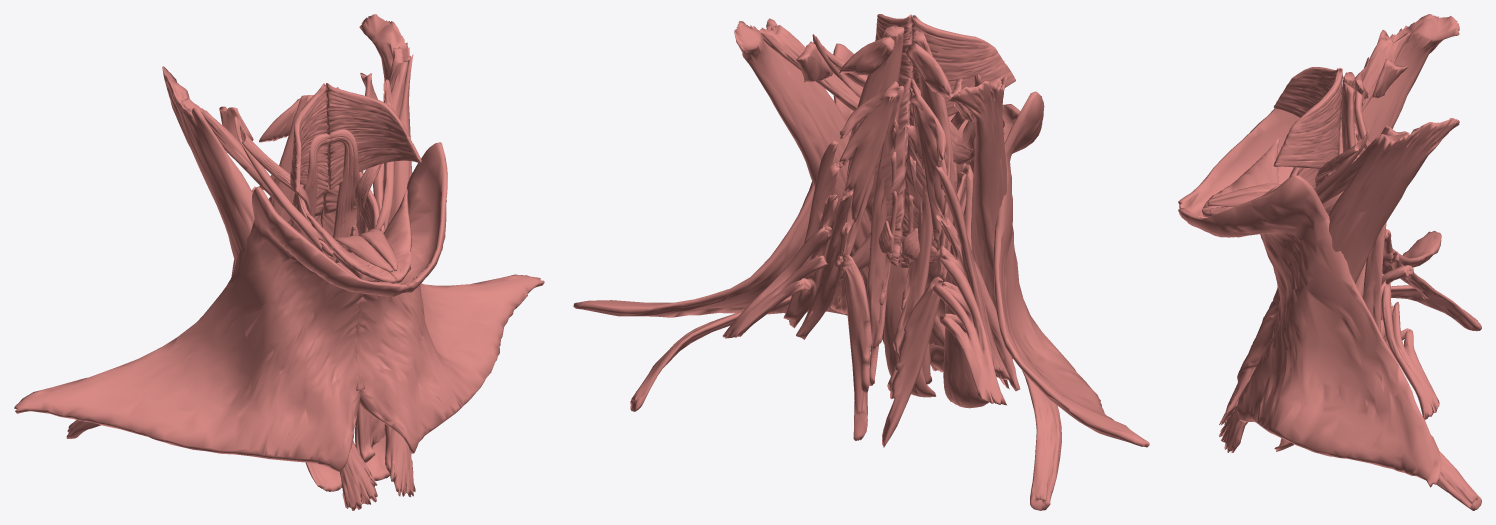
File: z-anatomy-neck-muscles.glb
3 renders of one model, left to right at view 1: azimuth 30°, elevation 25°; view 2: azimuth 150°, elevation 25°; view 3: azimuth 270°, elevation 25°, orthographic. The views are drawn at different scales.
Parts seen in each view (by area): view 1: neck-muscles-platysma-right__Platysma.r, neck-muscles-platysma-left__Platysma.l, neck-muscles-sternocleidomastoid-muscle-right__Sternocleidom, neck-muscles-superior-pharyngeal-constrictor-left__Superior , neck-muscles-sternocleidomastoid-muscle-left__Sternocleidoma, neck-muscles-superior-pharyngeal-constrictor-right__Superior, neck-muscles-palatopharyngeus-muscle-left__Palatopharyngeus , neck-muscles-mylohyoid-muscle-left__Mylohyoid muscle.l, neck-muscles-posterior-belly-of-digastric-muscle-right__Post, neck-muscles-stylohyoid-muscle-right__Stylohyoid muscle.r, neck-muscles-posterior-belly-of-digastric-muscle-left__Poste, neck-muscles-mylohyoid-muscle-right__Mylohyoid muscle.r (+12 smaller); view 2: neck-muscles-longus-colli-muscle-left__Longus colli muscle.l, neck-muscles-platysma-right__Platysma.r, neck-muscles-longus-colli-muscle-right__Longus colli muscle., neck-muscles-sternocleidomastoid-muscle-left__Sternocleidoma, neck-muscles-platysma-left__Platysma.l, neck-muscles-sternocleidomastoid-muscle-right__Sternocleidom, neck-muscles-superior-pharyngeal-constrictor-right__Superior, neck-muscles-scalenus-posterior-muscle-right__Scalenus poste, neck-muscles-omohyoid-muscle-right__Omohyoid muscle.r, neck-muscles-scalenus-medius-muscle-left__Scalenus medius mu, neck-muscles-scalenus-medius-muscle-right__Scalenus medius m, neck-muscles-scalenus-posterior-muscle-left__Scalenus poster (+15 smaller); view 3: neck-muscles-platysma-left__Platysma.l, neck-muscles-sternocleidomastoid-muscle-left__Sternocleidoma, neck-muscles-platysma-right__Platysma.r, neck-muscles-sternocleidomastoid-muscle-right__Sternocleidom, neck-muscles-superior-pharyngeal-constrictor-left__Superior , neck-muscles-scalenus-posterior-muscle-left__Scalenus poster, neck-muscles-superior-pharyngeal-constrictor-right__Superior, neck-muscles-scalenus-medius-muscle-left__Scalenus medius mu, neck-muscles-mylohyoid-muscle-right__Mylohyoid muscle.r, neck-muscles-omohyoid-muscle-right__Omohyoid muscle.r, neck-muscles-posterior-belly-of-digastric-muscle-right__Post, neck-muscles-omohyoid-muscle-left__Omohyoid muscle.l (+10 smaller).
Part boxes in pixels (x1,y1,x2,y2): neck-muscles-platysma-right__Platysma.r: [14, 186, 407, 471]; neck-muscles-platysma-left__Platysma.l: [355, 142, 544, 453]; neck-muscles-sternocleidomastoid-muscle-right__Sternocleidom: [162, 66, 377, 510]; neck-muscles-superior-pharyngeal-constrictor-left__Superior : [326, 83, 421, 189]; neck-muscles-sternocleidomastoid-muscle-left__Sternocleidoma: [359, 14, 415, 497]; neck-muscles-superior-pharyngeal-constrictor-right__Superior: [290, 83, 328, 193]; neck-muscles-palatopharyngeus-muscle-left__Palatopharyngeus : [329, 129, 359, 263]; neck-muscles-mylohyoid-muscle-left__Mylohyoid muscle.l: [373, 189, 411, 282]; neck-muscles-posterior-belly-of-digastric-muscle-right__Post: [181, 98, 326, 245]; neck-muscles-stylohyoid-muscle-right__Stylohyoid muscle.r: [234, 116, 331, 258]; neck-muscles-posterior-belly-of-digastric-muscle-left__Poste: [373, 47, 407, 231]; neck-muscles-mylohyoid-muscle-right__Mylohyoid muscle.r: [306, 213, 396, 283]; neck-muscles-longus-colli-muscle-left__Longus colli muscle.l: [839, 81, 904, 440]; neck-muscles-platysma-right__Platysma.r: [963, 91, 1149, 447]; neck-muscles-longus-colli-muscle-right__Longus colli muscle.: [882, 86, 947, 447]; neck-muscles-sternocleidomastoid-muscle-left__Sternocleidoma: [734, 18, 944, 372]; neck-muscles-platysma-left__Platysma.l: [573, 43, 945, 318]; neck-muscles-sternocleidomastoid-muscle-right__Sternocleidom: [948, 76, 1009, 389]; neck-muscles-superior-pharyngeal-constrictor-right__Superior: [912, 15, 1015, 116]; neck-muscles-scalenus-posterior-muscle-right__Scalenus poste: [932, 254, 1006, 405]; neck-muscles-omohyoid-muscle-right__Omohyoid muscle.r: [964, 164, 1061, 510]; neck-muscles-scalenus-medius-muscle-left__Scalenus medius mu: [783, 140, 839, 328]; neck-muscles-scalenus-medius-muscle-right__Scalenus medius m: [935, 166, 1010, 379]; neck-muscles-scalenus-posterior-muscle-left__Scalenus poster: [722, 226, 831, 338]; neck-muscles-platysma-left__Platysma.l: [1178, 175, 1441, 487]; neck-muscles-sternocleidomastoid-muscle-left__Sternocleidoma: [1219, 118, 1459, 452]; neck-muscles-platysma-right__Platysma.r: [1178, 108, 1441, 381]; neck-muscles-sternocleidomastoid-muscle-right__Sternocleidom: [1219, 14, 1459, 424]; neck-muscles-superior-pharyngeal-constrictor-left__Superior : [1273, 69, 1342, 168]; neck-muscles-scalenus-posterior-muscle-left__Scalenus poster: [1381, 280, 1439, 419]; neck-muscles-superior-pharyngeal-constrictor-right__Superior: [1274, 67, 1342, 117]; neck-muscles-scalenus-medius-muscle-left__Scalenus medius mu: [1363, 222, 1410, 347]; neck-muscles-mylohyoid-muscle-right__Mylohyoid muscle.r: [1202, 137, 1279, 209]; neck-muscles-omohyoid-muscle-right__Omohyoid muscle.r: [1391, 285, 1481, 331]; neck-muscles-posterior-belly-of-digastric-muscle-right__Post: [1340, 32, 1409, 124]; neck-muscles-omohyoid-muscle-left__Omohyoid muscle.l: [1436, 451, 1481, 510].
Size of the model in its own units: 0.2825 by 0.1941 by 0.1435.
